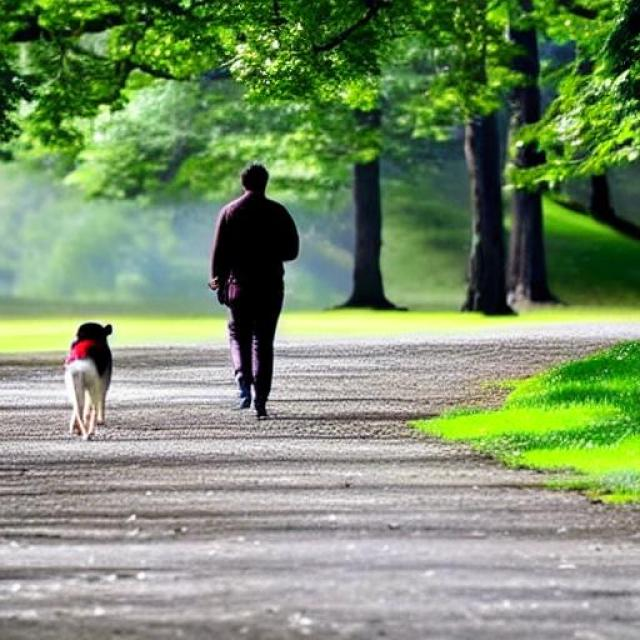Unleashed_Dog: (63, 286, 286, 444)
